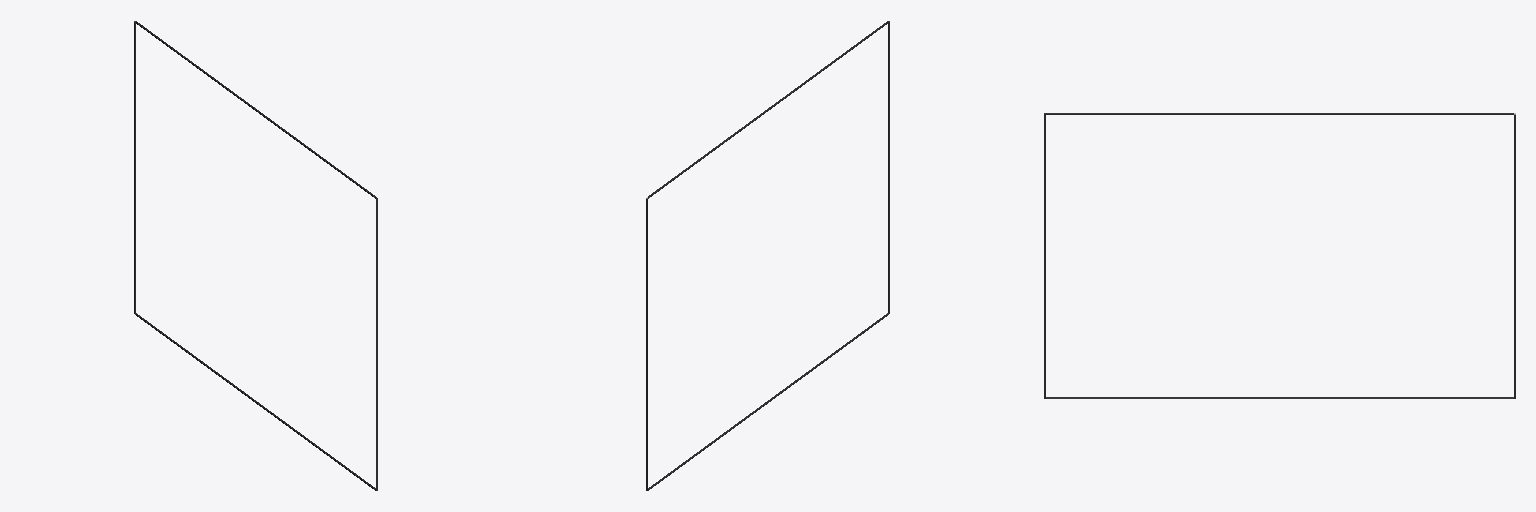
URDF robot description (CRAIC):
<?xml version="1.0" encoding="utf-8"?>
<!-- This URDF was automatically created by SolidWorks to URDF Exporter! Originally created by Stephen Brawner ([email redacted]) 
     Commit Version: 1.6.0-4-g7f85cfe  Build Version: 1.6.7995.38578
     For more information, please see http://wiki.ros.org/sw_urdf_exporter -->
<robot
  name="CRAIC">
  <link
    name="base_link">
    <inertial>
      <origin
        xyz="3.0295 0.0049346 -1.515"
        rpy="0 0 0" />
      <mass
        value="0.027" />
      <inertia
        ixx="4.05E-06"
        ixy="-1.0588E-22"
        ixz="1.3853E-22"
        iyy="4.05E-06"
        iyz="2.8498E-22"
        izz="4.05E-06" />
    </inertial>
    <visual>
      <origin
        xyz="0 0 0"
        rpy="0 0 0" />
      <geometry>
        <mesh
          filename="package://CRAIC/meshes/base_link.STL" />
      </geometry>
      <material
        name="">
        <color
          rgba="0.79216 0.81961 0.93333 1" />
      </material>
    </visual>
    <collision>
      <origin
        xyz="0 0 0"
        rpy="0 0 0" />
      <geometry>
        <mesh
          filename="package://CRAIC/meshes/base_link.STL" />
      </geometry>
    </collision>
  </link>
  <link
    name="base_on_link">
    <inertial>
      <origin
        xyz="-1.2957E-06 4.5262 3.0075"
        rpy="0 0 0" />
      <mass
        value="10.924" />
      <inertia
        ixx="0.90452"
        ixy="-7.4343E-17"
        ixz="1.5138E-11"
        iyy="0.36296"
        iyz="-1.8947E-16"
        izz="0.54348" />
    </inertial>
	<static>true</static>
    <visual>
      <origin
        xyz="0 0 0"
        rpy="0 0 0" />
      <geometry>
        <mesh
          filename="package://CRAIC/meshes/base_on_link.STL" />
      </geometry>
      <material
        name="">
        <color
          rgba="0.25098 0.25098 0.25098 1" />
      </material>
    </visual>
    <collision>
      <origin
        xyz="0 0 0"
        rpy="0 0 0" />
      <geometry>
        <mesh
          filename="package://CRAIC/meshes/base_on_link.STL" />
      </geometry>
    </collision>
  </link>
  <joint
    name="base_on_joint"
    type="fixed">
    <origin
      xyz="3.0295 1.515 -0.010065"
      rpy="3.1416 0 0" />
    <parent
      link="base_link" />
    <child
      link="base_on_link" />
    <axis
      xyz="0 0 0" />
  </joint>
  <link
    name="up_link">
    <inertial>
      <origin
        xyz="-3.01621770049587 4.50336968820548 -1.07086007939946"
        rpy="0 0 0" />
      <mass
        value="808.542933859099" />
      <inertia
        ixx="872.029932258811"
        ixy="0.0287616245364902"
        ixz="0.0191744162920697"
        iyy="782.244820374578"
        iyz="-0.0191744163073096"
        izz="866.008297152572" />
    </inertial>
    <visual>
      <origin
        xyz="0 0 0"
        rpy="0 0 0" />
      <geometry>
        <mesh
          filename="package://CRAIC/meshes/up_link.STL" />
      </geometry>
      <material
        name="">
        <color
          rgba="0.250980392156863 0.250980392156863 0.250980392156863 1" />
      </material>
    </visual>
    <collision>
      <origin
        xyz="0 0 0"
        rpy="0 0 0" />
      <geometry>
        <mesh
          filename="package://CRAIC/meshes/up_link.STL" />
      </geometry>
    </collision>
  </link>
  <joint
    name="up_joint"
    type="fixed">
    <origin
      xyz="-1.01500000000002 0 -0.0150000000000074"
      rpy="0 1.5707963267949 0" />
    <parent
      link="base_on_link" />
    <child
      link="up_link" />
    <axis
      xyz="0 0 0" />
  </joint>
</robot>

--- Facts derived from the render (not from the file) ---
3 views of the same robot in one strip: view 1: azimuth 30°, elevation 25°; view 2: azimuth 150°, elevation 25°; view 3: azimuth 270°, elevation 25° (orthographic).
Robot: CRAIC — 3 links, 2 joints (2 fixed); root link base_link; default pose: every joint at zero.
Links seen in each view (by area): view 1: base_on_link; view 2: base_on_link; view 3: base_on_link.
Boxes of the visible links, x1,y1,x2,y2 form: base_on_link: (134,21,377,490); base_on_link: (646,21,889,490); base_on_link: (1044,113,1515,398).
Bounding box of the posed robot: 0.03 × 9.06 × 6.06 m (x, y, z).
Meshes: 3 distinct files referenced, 2 mesh visuals loaded (2 binary STL); not drawn: 1 (reference not matched to a file when rendering).
